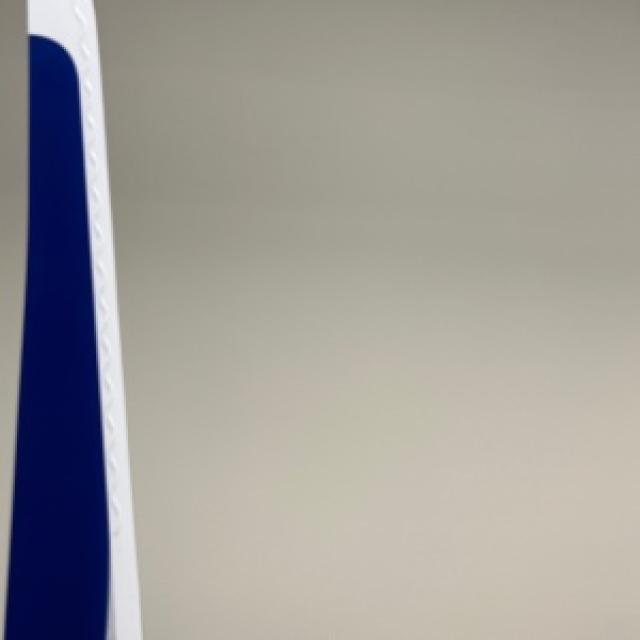healthy: (4, 0, 139, 638)
